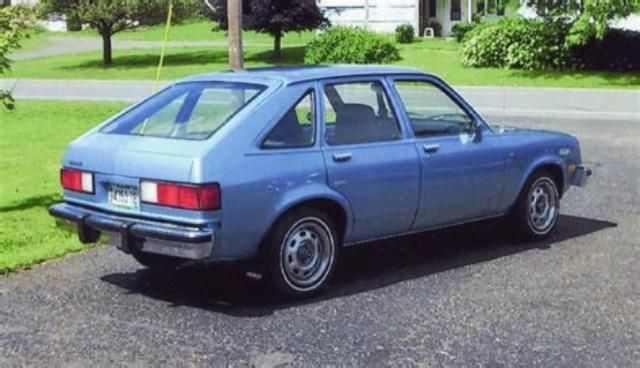chevette-1983: (47, 65, 595, 300)
